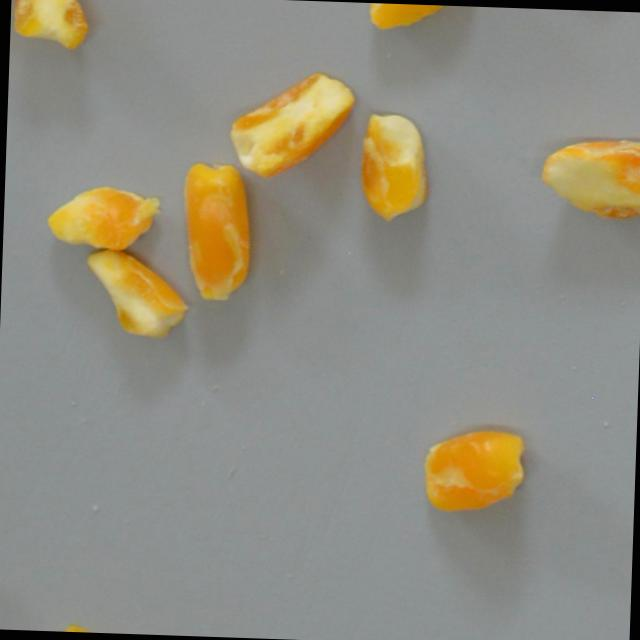estandar: (215, 61, 360, 186), (9, 0, 96, 51)
pelicula: (150, 157, 272, 307), (49, 145, 169, 266), (333, 107, 454, 227), (79, 227, 199, 347), (403, 409, 523, 529), (532, 114, 640, 234), (362, 1, 480, 42)
